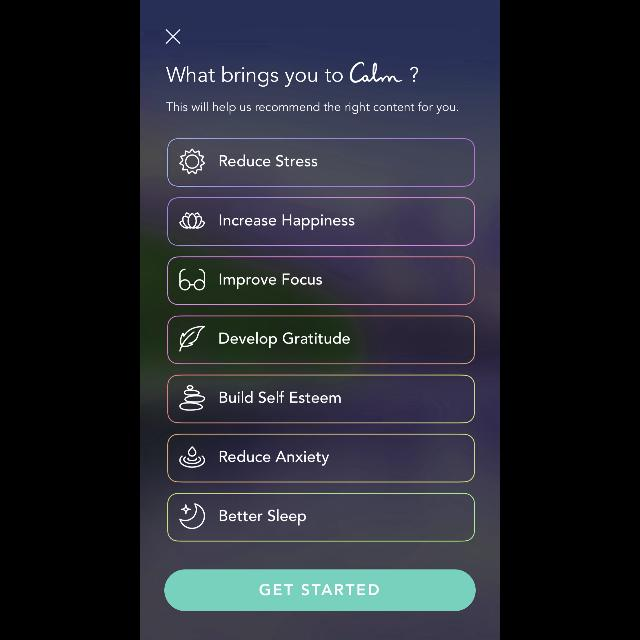icon: (180, 150, 204, 174), (166, 30, 180, 44)
image: (180, 503, 206, 529), (180, 326, 204, 352), (180, 386, 204, 410), (179, 447, 205, 468), (179, 270, 205, 290), (180, 213, 204, 229)
text: (166, 62, 418, 86), (166, 102, 458, 115)
textbutton: (167, 492, 475, 542), (167, 374, 475, 424), (167, 256, 475, 306), (167, 433, 475, 482), (167, 316, 475, 364), (167, 198, 475, 246), (167, 138, 475, 186), (164, 569, 476, 611)
